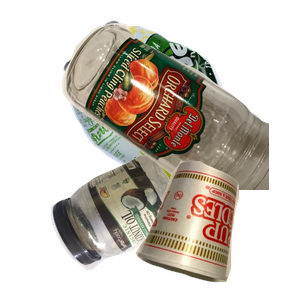glass: (60, 21, 300, 201)
metal: (60, 18, 300, 198)
plastic: (48, 152, 228, 300)
trash: (133, 158, 300, 300)
